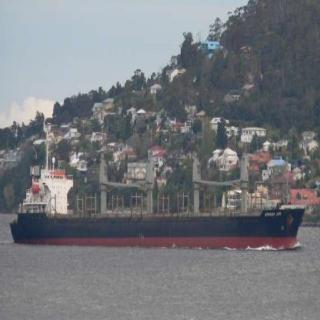Bulk Carrier: (2, 174, 303, 247)
